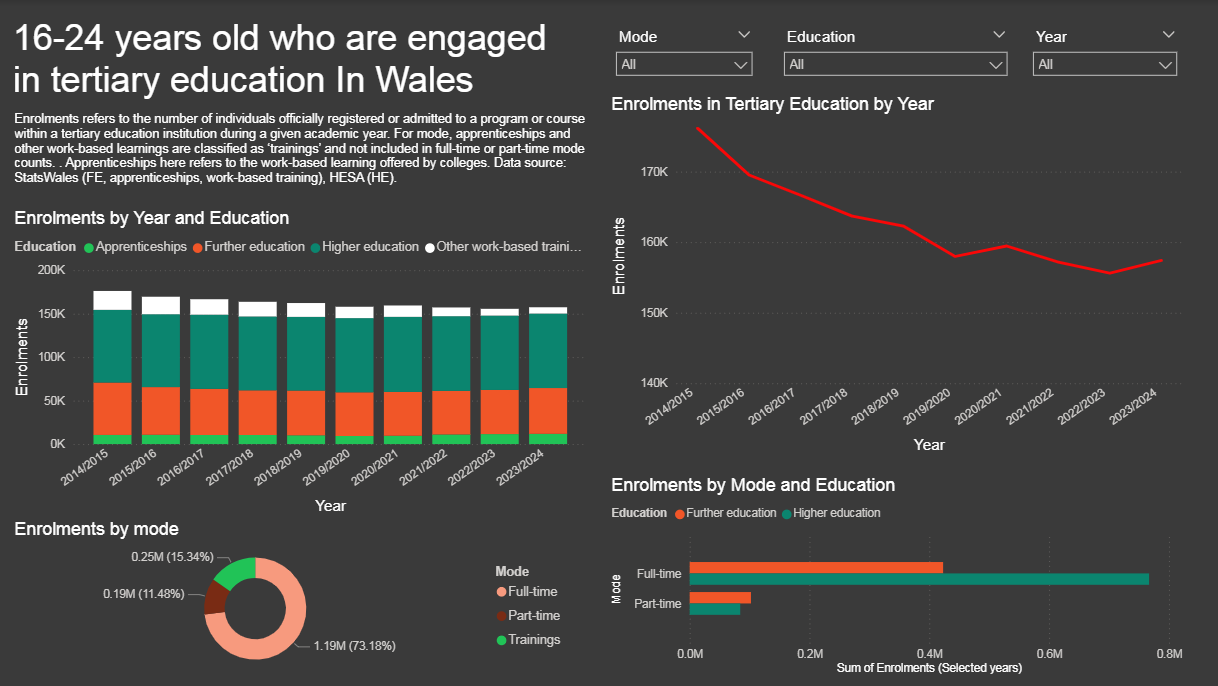

Layout of this report page (visuals, bound fields, positions):
{"tool":"powerbi","page":{"name":"Page 1","canvas":[1280,720],"ordinal":0},"visuals":[{"type":"lineChart","title":"Enrolments in Tertiary Education by Year","fields":{"Category":["export (2).Year"],"Y":["Sum(export (2).enrolments)"]},"box":[639.4,98.6,604.4,378.6],"z":0},{"type":"donutChart","title":"Enrolments by mode","fields":{"Y":["select","Sum(export (2).enrolments)"],"Category":["export (2).mode"]},"box":[17.5,540.8,588.5,165.4],"z":1000},{"type":"slicer","fields":{"Values":["export (2).mode"]},"box":[639.4,23.9,162.2,74.8],"z":2000},{"type":"slicer","fields":{"Values":["export (2).education"]},"box":[814.4,23.9,252.9,63.6],"z":3000},{"type":"clusteredBarChart","title":"Enrolments by Mode and Education","fields":{"Category":["export (2).mode"],"Y":["Sum(Enrolments in Wales by mode and education.enrolments)"],"Series":["Enrolments in Wales by mode and education.education"]},"box":[638.7,495.1,604.7,211.7],"z":4000},{"type":"slicer","fields":{"Values":["export (2).Year"]},"box":[1073.7,23.9,170.2,63.6],"z":5000},{"type":"textbox","box":[15.9,12.7,591.7,98.6],"z":6000},{"type":"columnChart","fields":{"Y":["Sum(Enrolments in Wales by mode and education.enrolments)"],"Category":["Enrolments in Wales by mode and education.Year"],"Series":["Enrolments in Wales by mode and education.education"]},"box":[17,217.3,606.6,323.2],"z":7000},{"type":"textbox","box":[17.5,111.3,607.6,92.3],"z":8000}]}

Visuals, with their boxes in screenshot pixels (x1, y1, x2, y2), scaled from the page's 1280x720 canvas onto the 1218x686 screenshot:
"Enrolments in Tertiary Education by Year" lineChart: <region>608, 94, 1184, 455</region>
"Enrolments by mode" donutChart: <region>17, 515, 577, 673</region>
slicer - export (2).mode: <region>608, 23, 763, 94</region>
slicer - export (2).education: <region>775, 23, 1016, 83</region>
"Enrolments by Mode and Education" clusteredBarChart: <region>608, 472, 1183, 673</region>
slicer - export (2).Year: <region>1022, 23, 1184, 83</region>
textbox: <region>15, 12, 578, 106</region>
columnChart - Sum(Enrolments in Wales by mode and education.enrolments) x Enrolments in Wales by mode and education.Year: <region>16, 207, 593, 515</region>
textbox: <region>17, 106, 595, 194</region>
